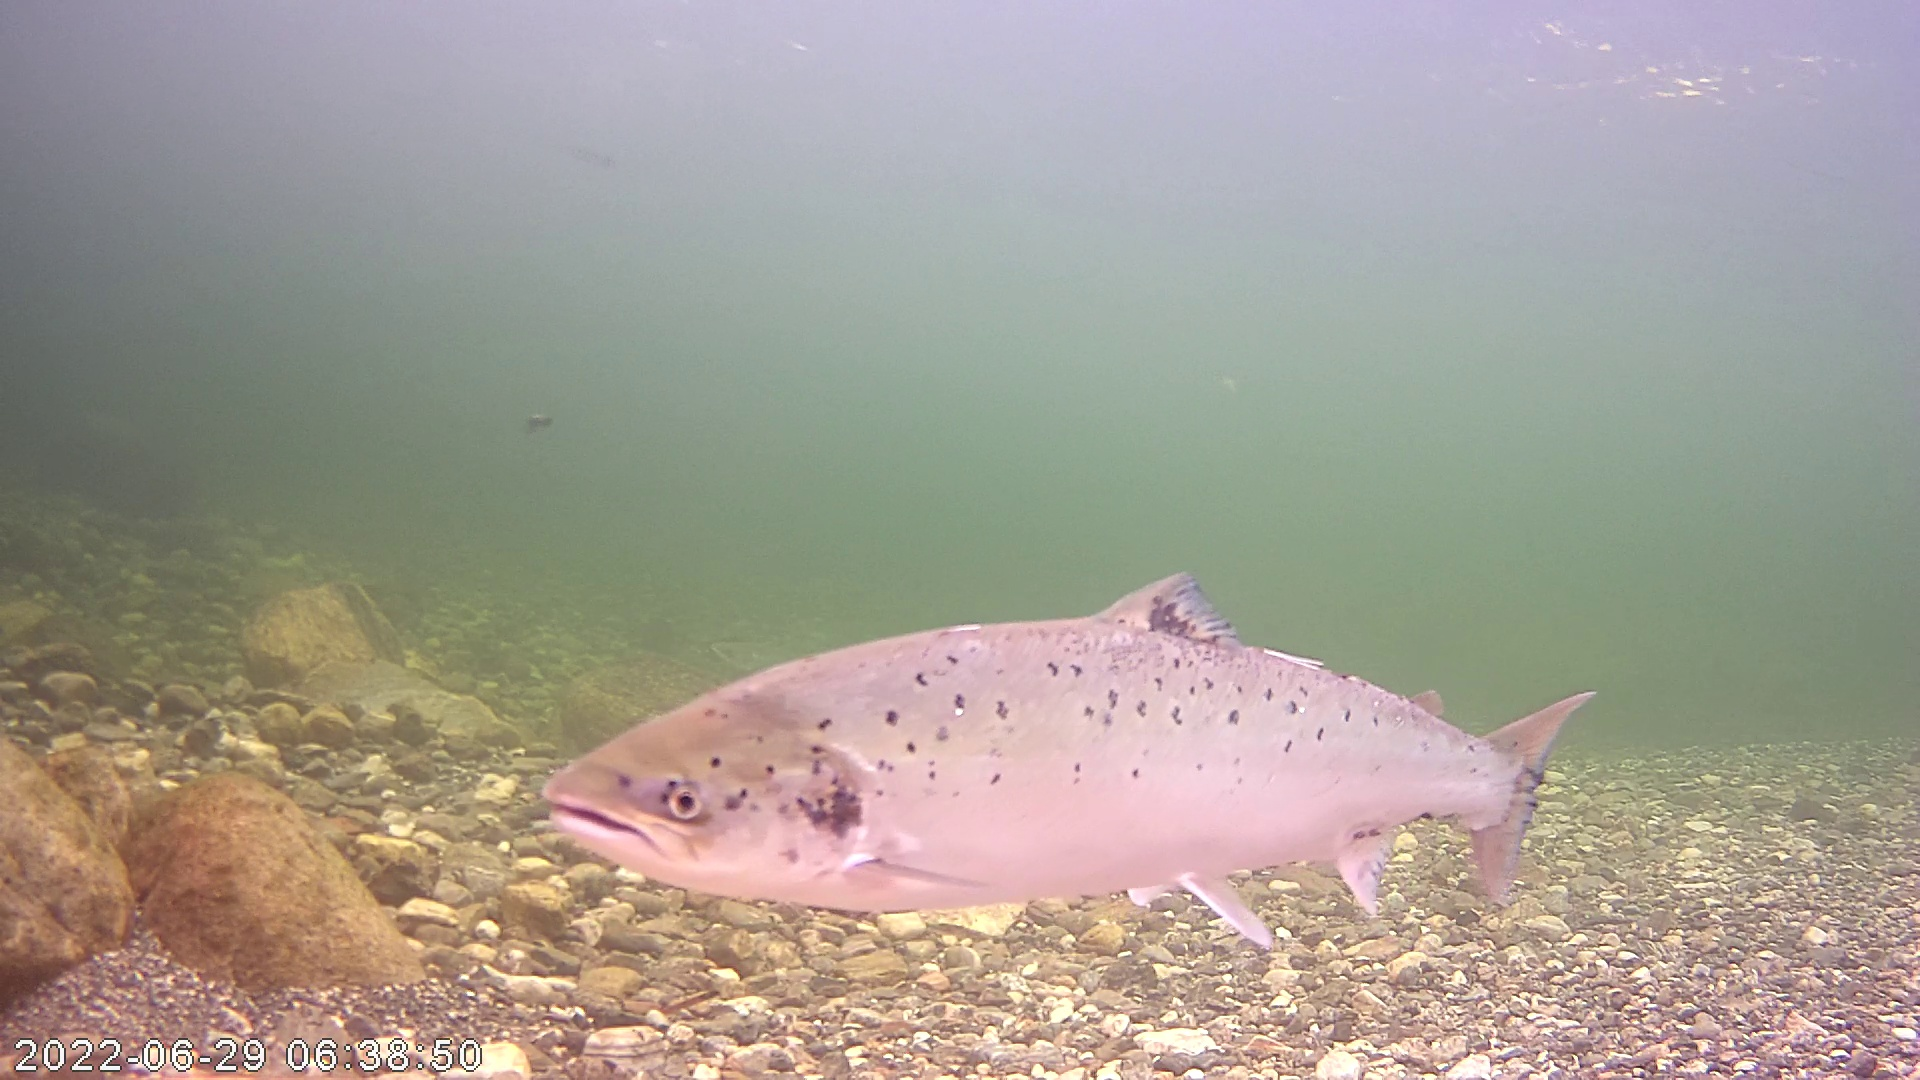salmon: (585, 492, 1588, 934)
